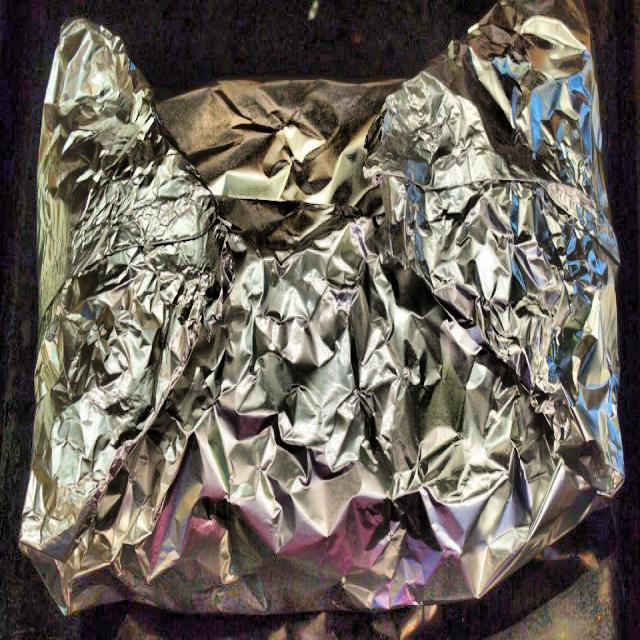Foil: (17, 0, 628, 640)
